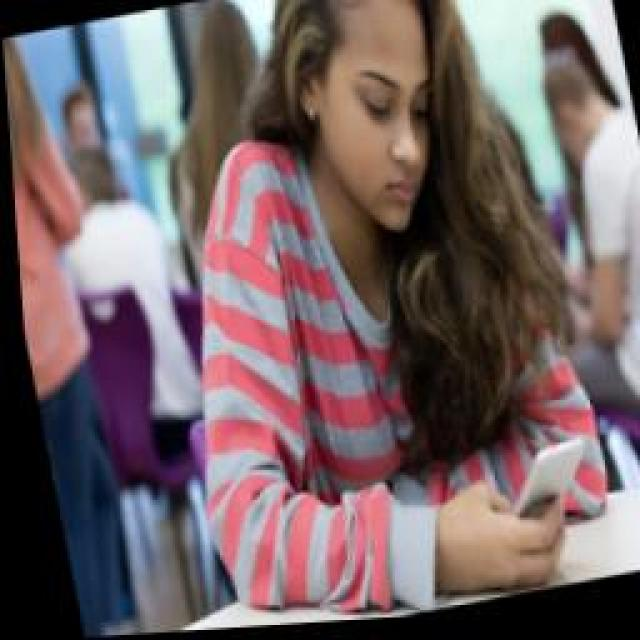phone: (108, 0, 620, 635)
